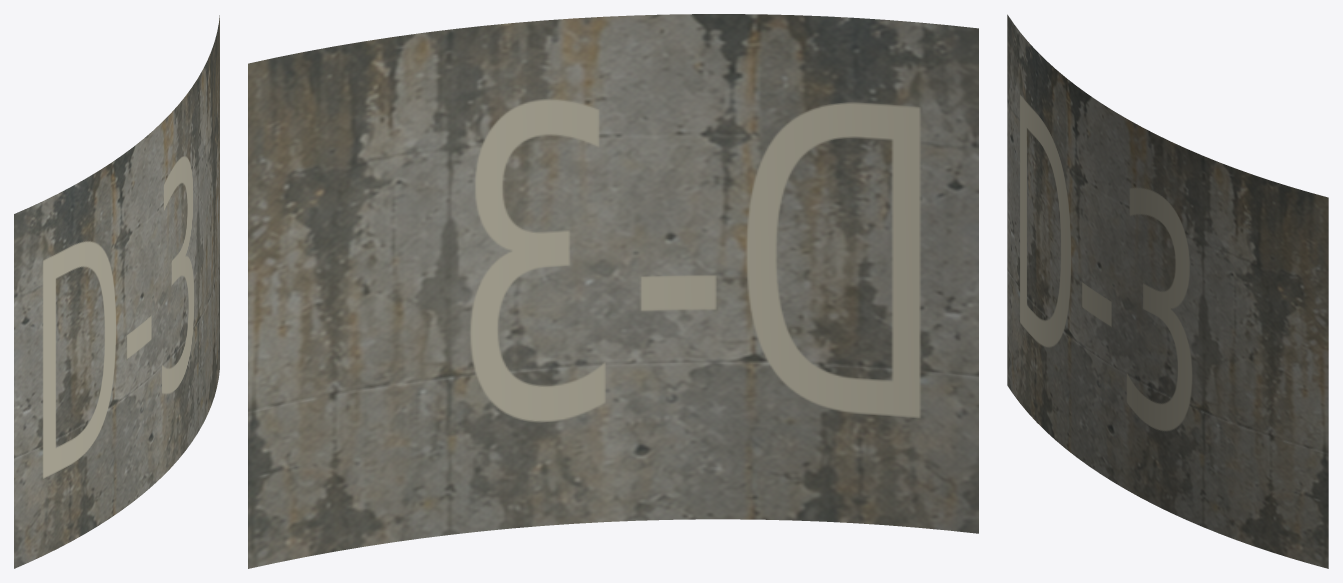
File: Tank_D3_Marking.glb
3 renders of one model, left to right at view 1: azimuth 30°, elevation 25°; view 2: azimuth 150°, elevation 25°; view 3: azimuth 270°, elevation 25°, orthographic. The views are drawn at different scales.
Parts seen in each view (by area): view 1: Tank_D3_Marking; view 2: Tank_D3_Marking; view 3: Tank_D3_Marking.
Boxes of the visible parts, bbox=[...] form: Tank_D3_Marking: bbox=[14, 15, 219, 568]; Tank_D3_Marking: bbox=[248, 14, 978, 568]; Tank_D3_Marking: bbox=[1007, 14, 1328, 568].
Size of the model in its own units: 4.14 by 3.9 by 3.06.
Materials: 1 (1 with a texture image).
